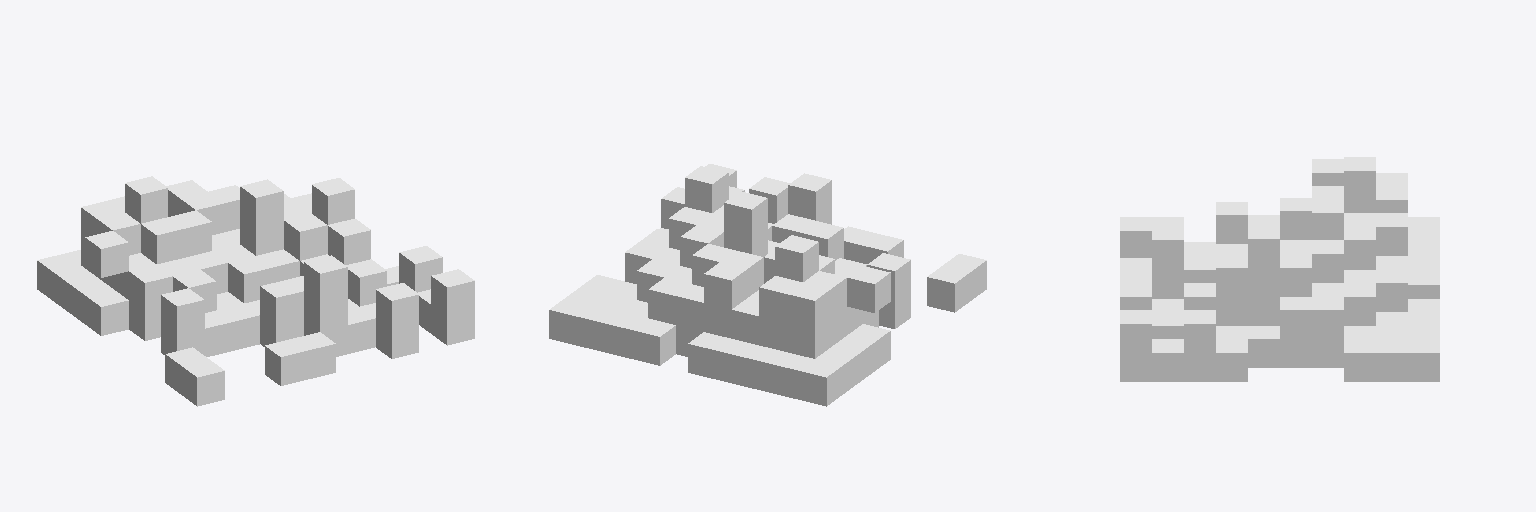
File: Stein_Mitte.obj
3 views of the same model, side by side, from view 1: azimuth 30°, elevation 25°; view 2: azimuth 150°, elevation 25°; view 3: azimuth 270°, elevation 25° (orthographic).
Parts seen in each view (by area): view 1: object 1; view 2: object 1; view 3: object 1.
Part boxes in pixels (x1,y1,x2,y2): object 1: (37,176,474,406); object 1: (549,164,986,406); object 1: (1120,157,1439,381).
Bounding box in the file's own units: 1 × 0.4 × 1.